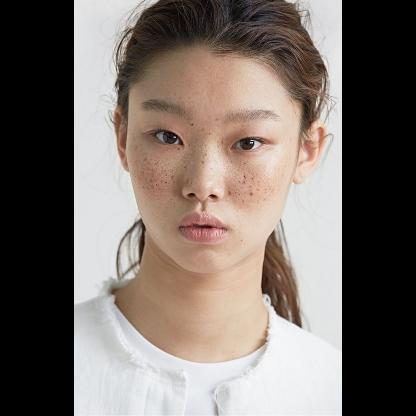Female: (113, 44, 326, 272)
